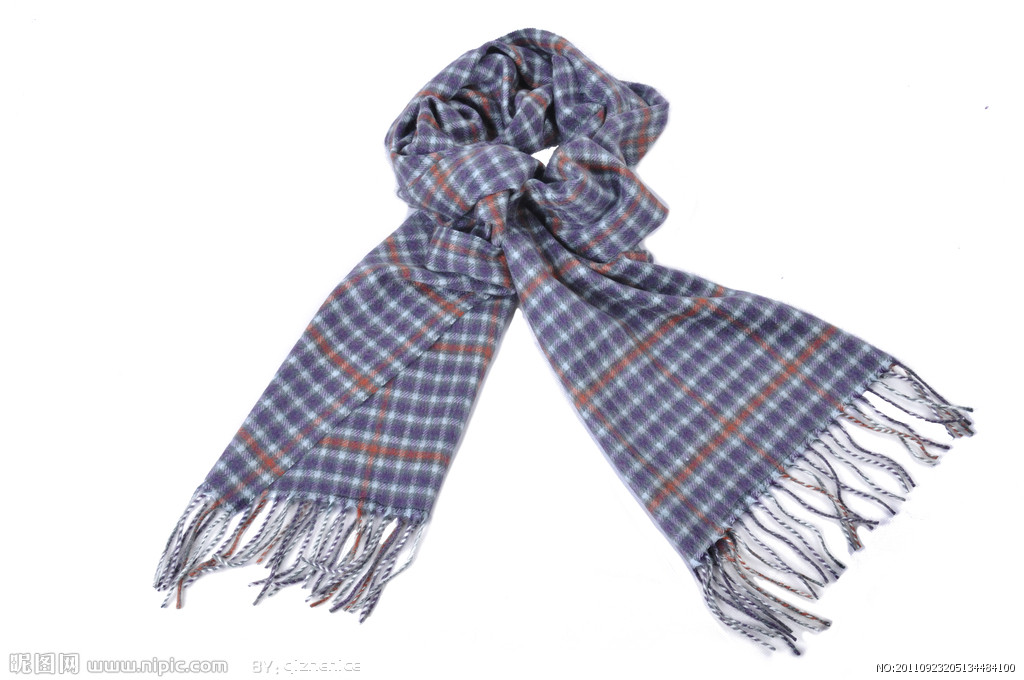flexible: (166, 23, 973, 655)
